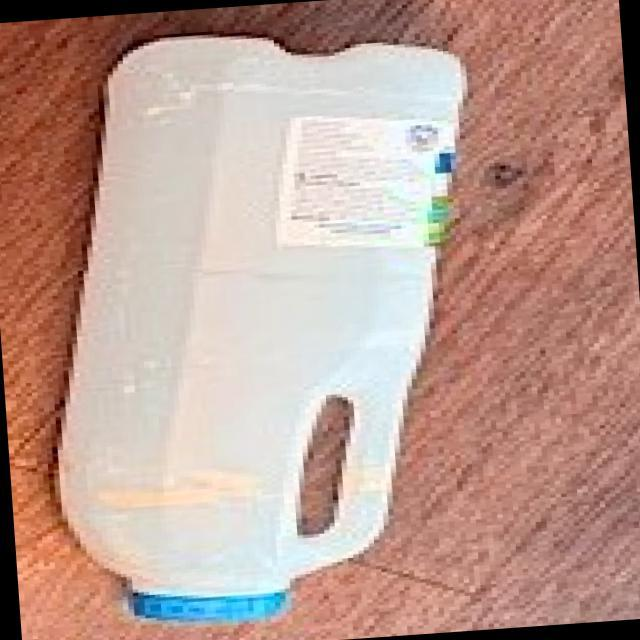HDPE Plastic: (44, 32, 473, 626)
